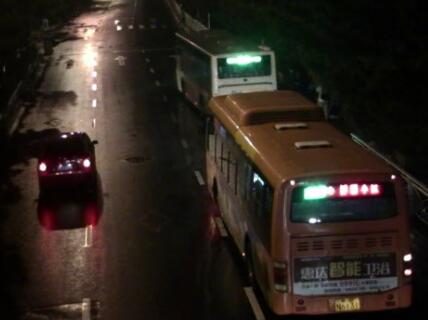bus: (197, 86, 414, 315), (176, 27, 276, 115)
car: (32, 131, 98, 185)
